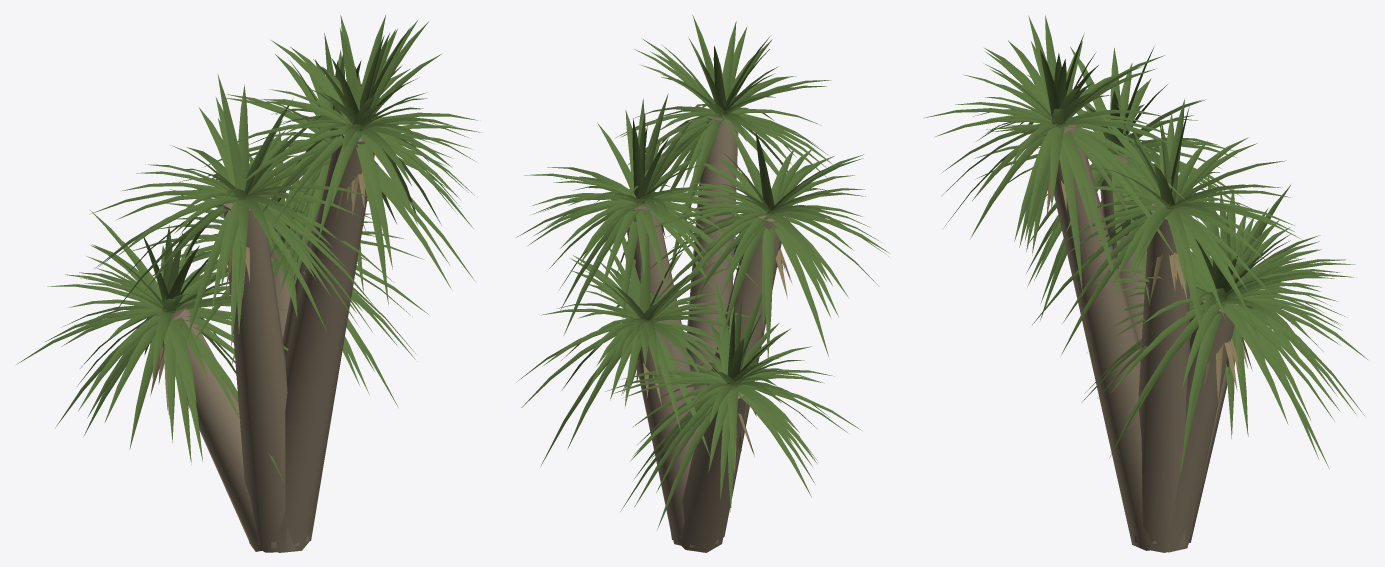
File: yucca.glb
The picture shows the model from 3 angles, left to right: view 1: azimuth 30°, elevation 25°; view 2: azimuth 150°, elevation 25°; view 3: azimuth 270°, elevation 25°; orthographic projection. The views are drawn at different scales.
Visible parts, largest first — view 1: yucca-yucca, yucca-yucca-trunk, yucca-yucca-dry; view 2: yucca-yucca, yucca-yucca-trunk, yucca-yucca-dry; view 3: yucca-yucca, yucca-yucca-trunk, yucca-yucca-dry.
Part boxes in pixels (box(x1,y1,x2,y2)): yucca-yucca: box(16, 15, 481, 482); yucca-yucca-trunk: box(162, 129, 374, 552); yucca-yucca-dry: box(150, 172, 368, 418); yucca-yucca: box(516, 15, 889, 530); yucca-yucca-trunk: box(627, 116, 786, 552); yucca-yucca-dry: box(616, 165, 791, 473); yucca-yucca: box(923, 14, 1367, 476); yucca-yucca-trunk: box(1044, 124, 1238, 552); yucca-yucca-dry: box(1045, 176, 1252, 401).
Bounding box in the file's own units: 3.1 × 4.16 × 3.19.
